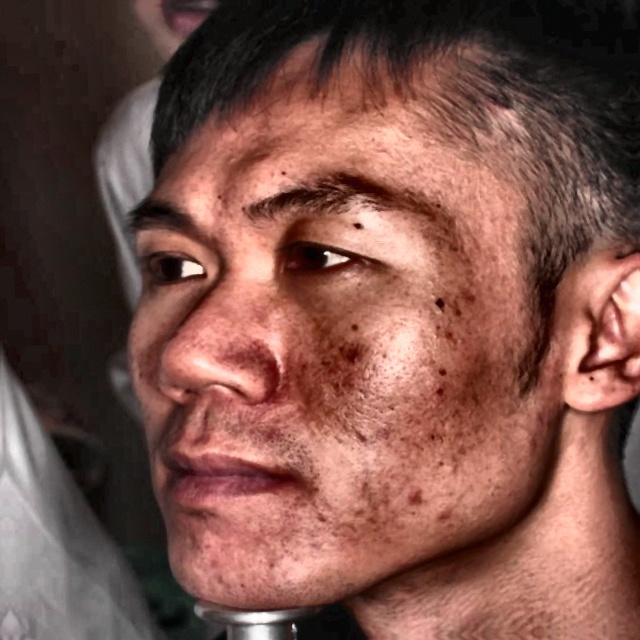comedone: (400, 482, 437, 516), (343, 348, 369, 372)
